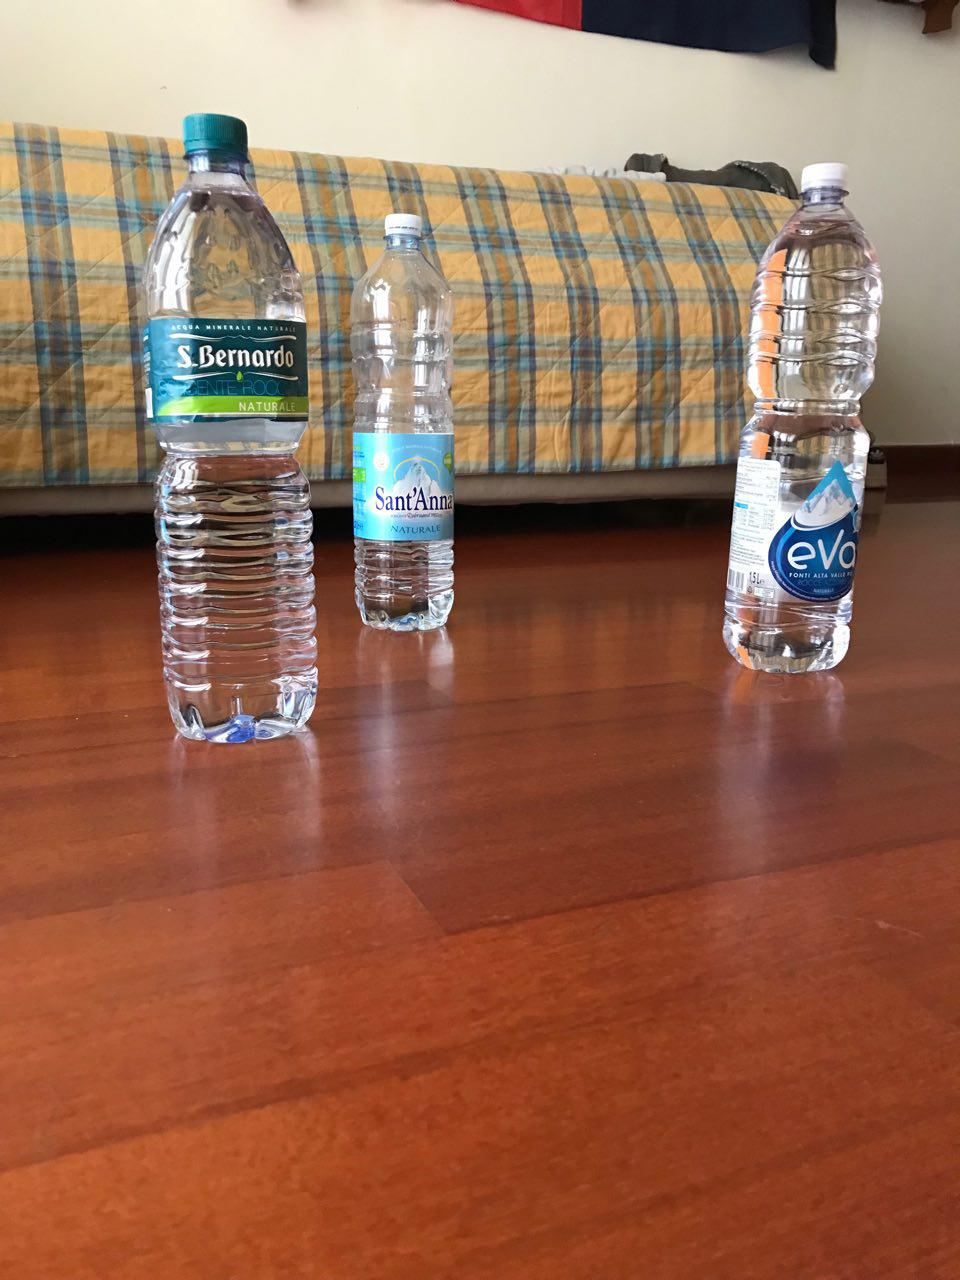san_bernardo: (141, 112, 320, 743)
